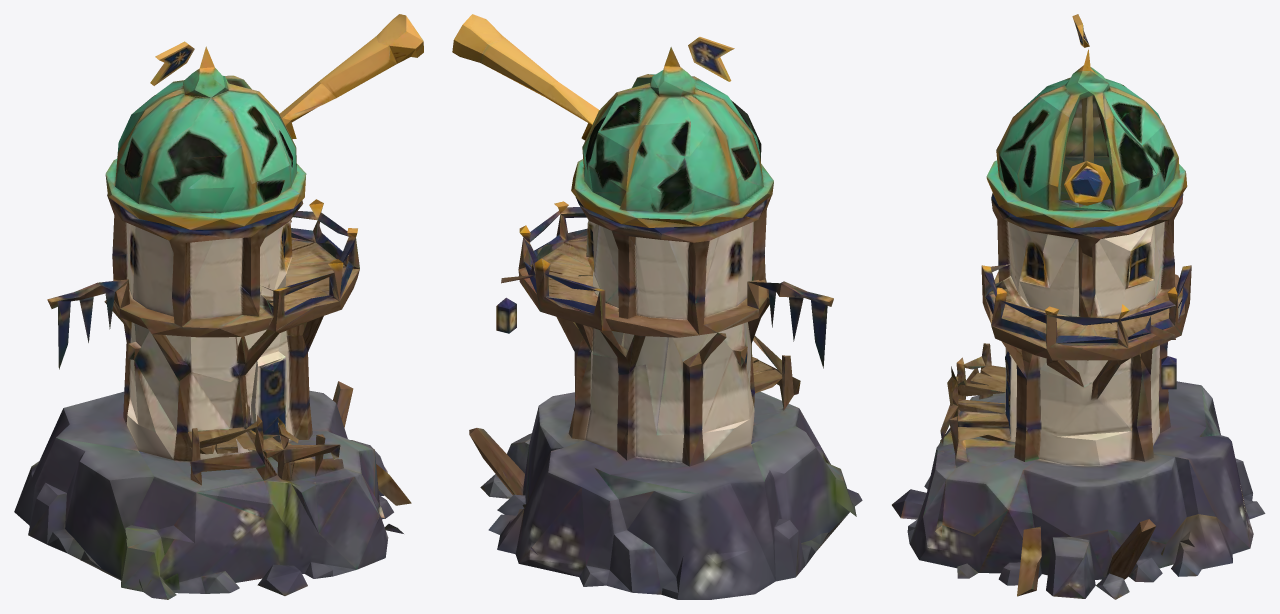
The model's file is observatory.glb.
3 renders of one model, left to right at view 1: azimuth 30°, elevation 25°; view 2: azimuth 150°, elevation 25°; view 3: azimuth 270°, elevation 25°, orthographic.
Visible parts, largest first — view 1: observatory; view 2: observatory; view 3: observatory.
Boxes of the visible parts, <box> form: observatory: <box>14,14,423,599</box>; observatory: <box>452,14,862,599</box>; observatory: <box>892,14,1265,599</box>.
Size of the model in its own units: 1.46 by 1.83 by 1.3.
1 material, 1 textured.
